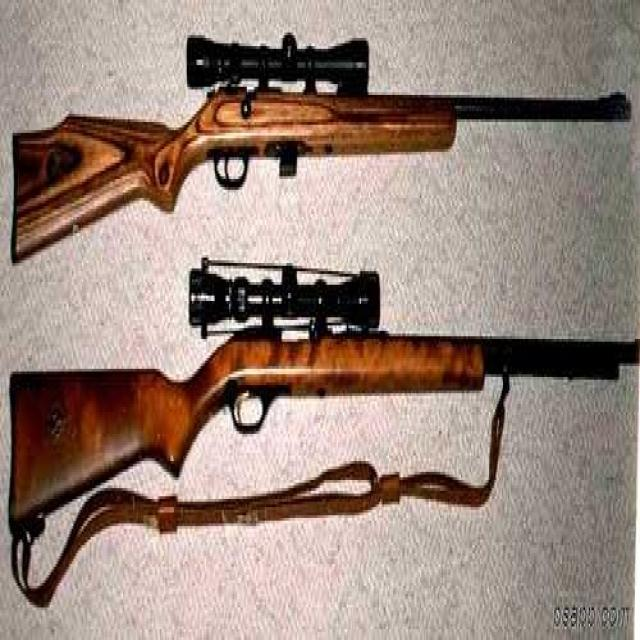heavyweapon: (6, 9, 640, 283), (6, 310, 640, 579)
